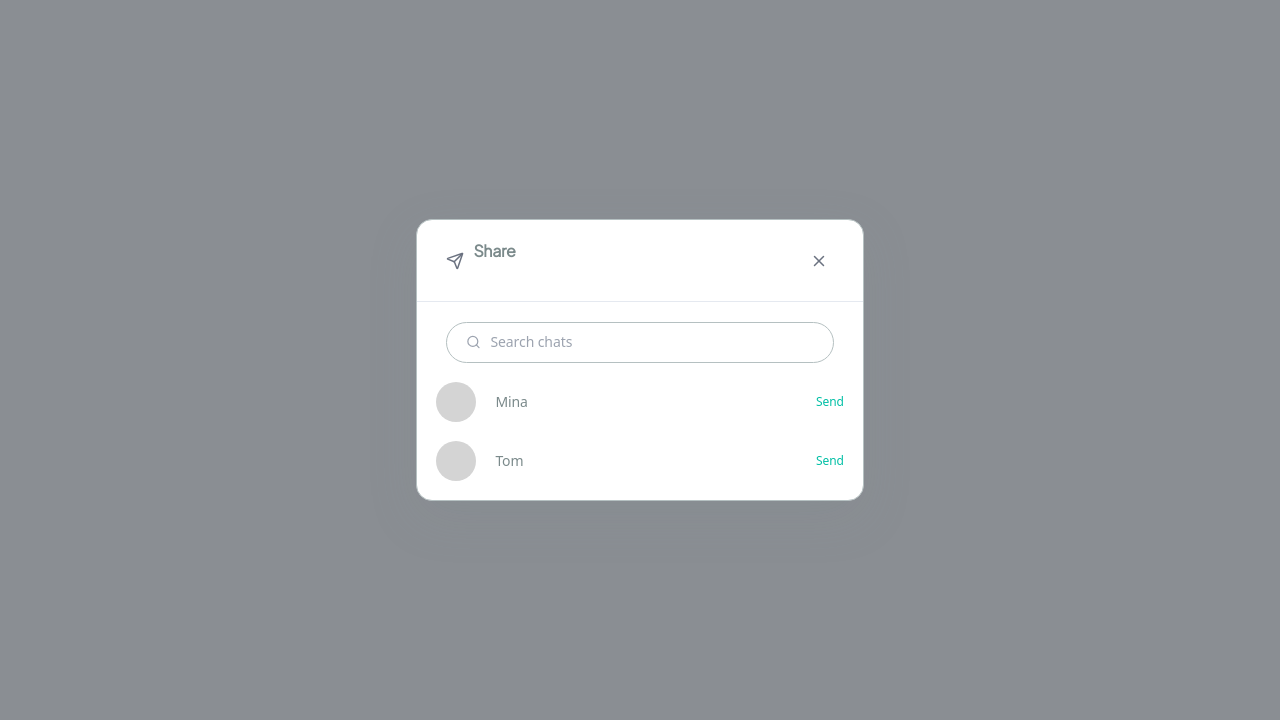
StoryShareSheet › filters the list by name
Type "to" into the field with test id "story-share-search" at (652, 342), box [490, 332, 814, 352]
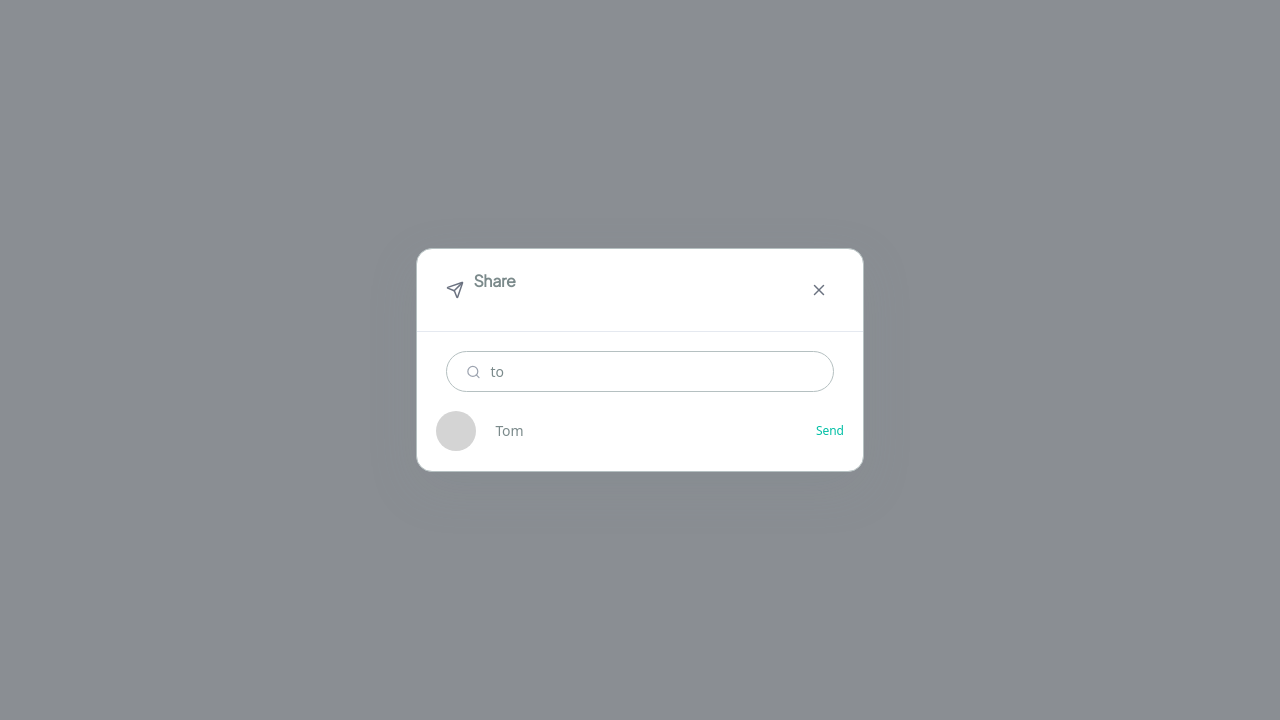
Expected: the text "Tom" is shown, [495, 422, 524, 440]
Expected: the number of buttons with test id "story-share-row" is 1, [427, 402, 853, 461]
